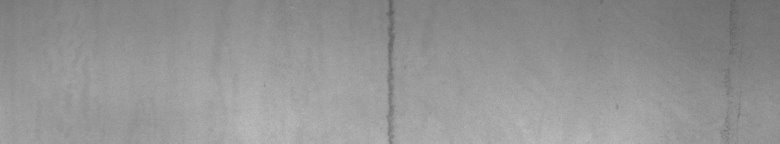hd: (384, 4, 400, 136)
